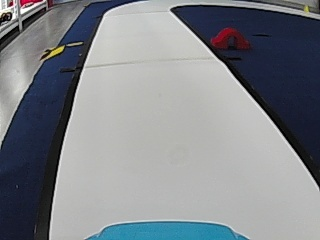bridge: (211, 26, 250, 49)
